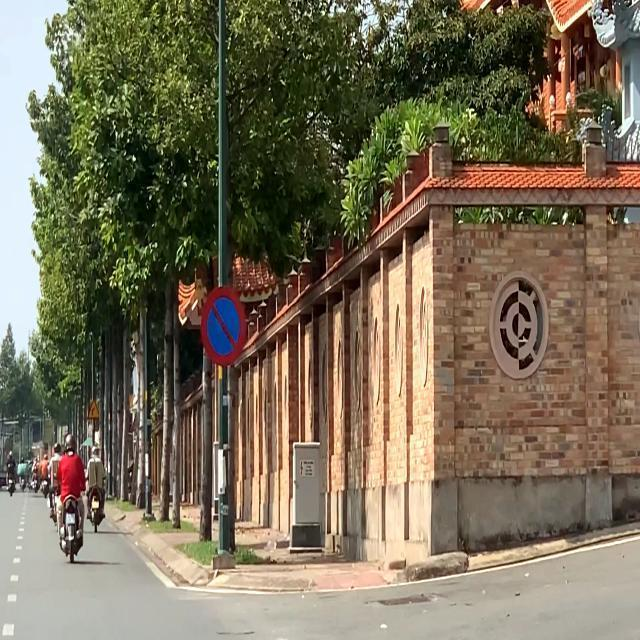131a-cam-do-xe: (198, 288, 246, 364)
201-cho-ngoat-nguy-hiem: (87, 400, 100, 420)
